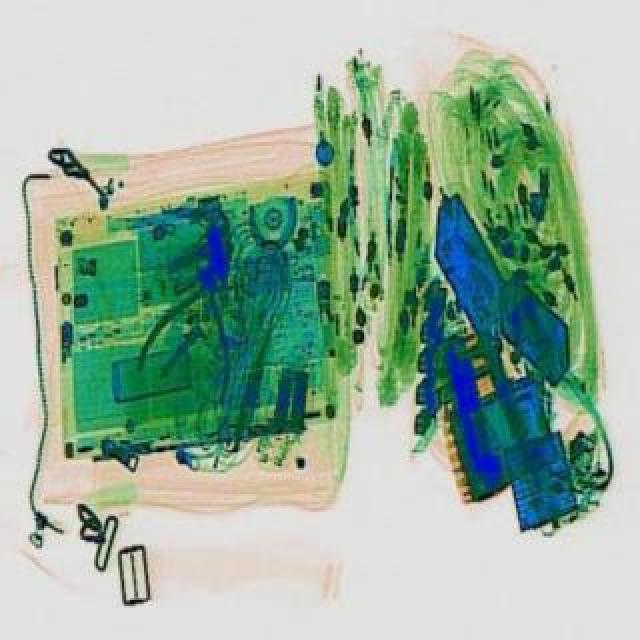wrench: (130, 228, 268, 400)
